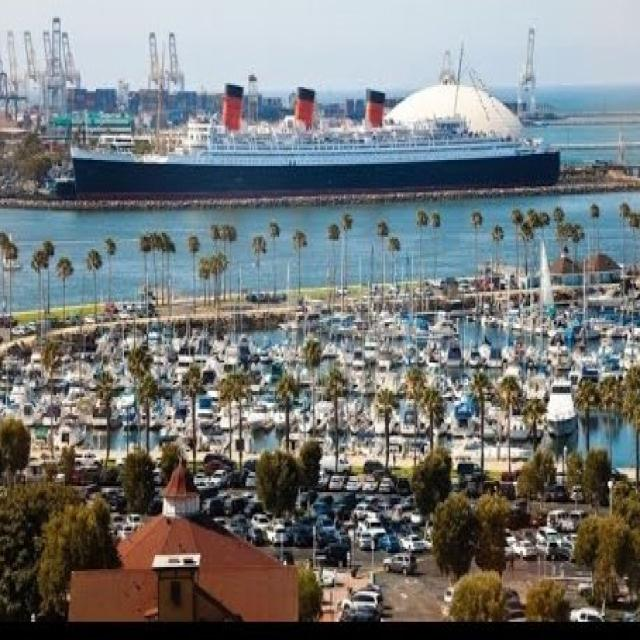cargoship: (53, 101, 570, 201)
